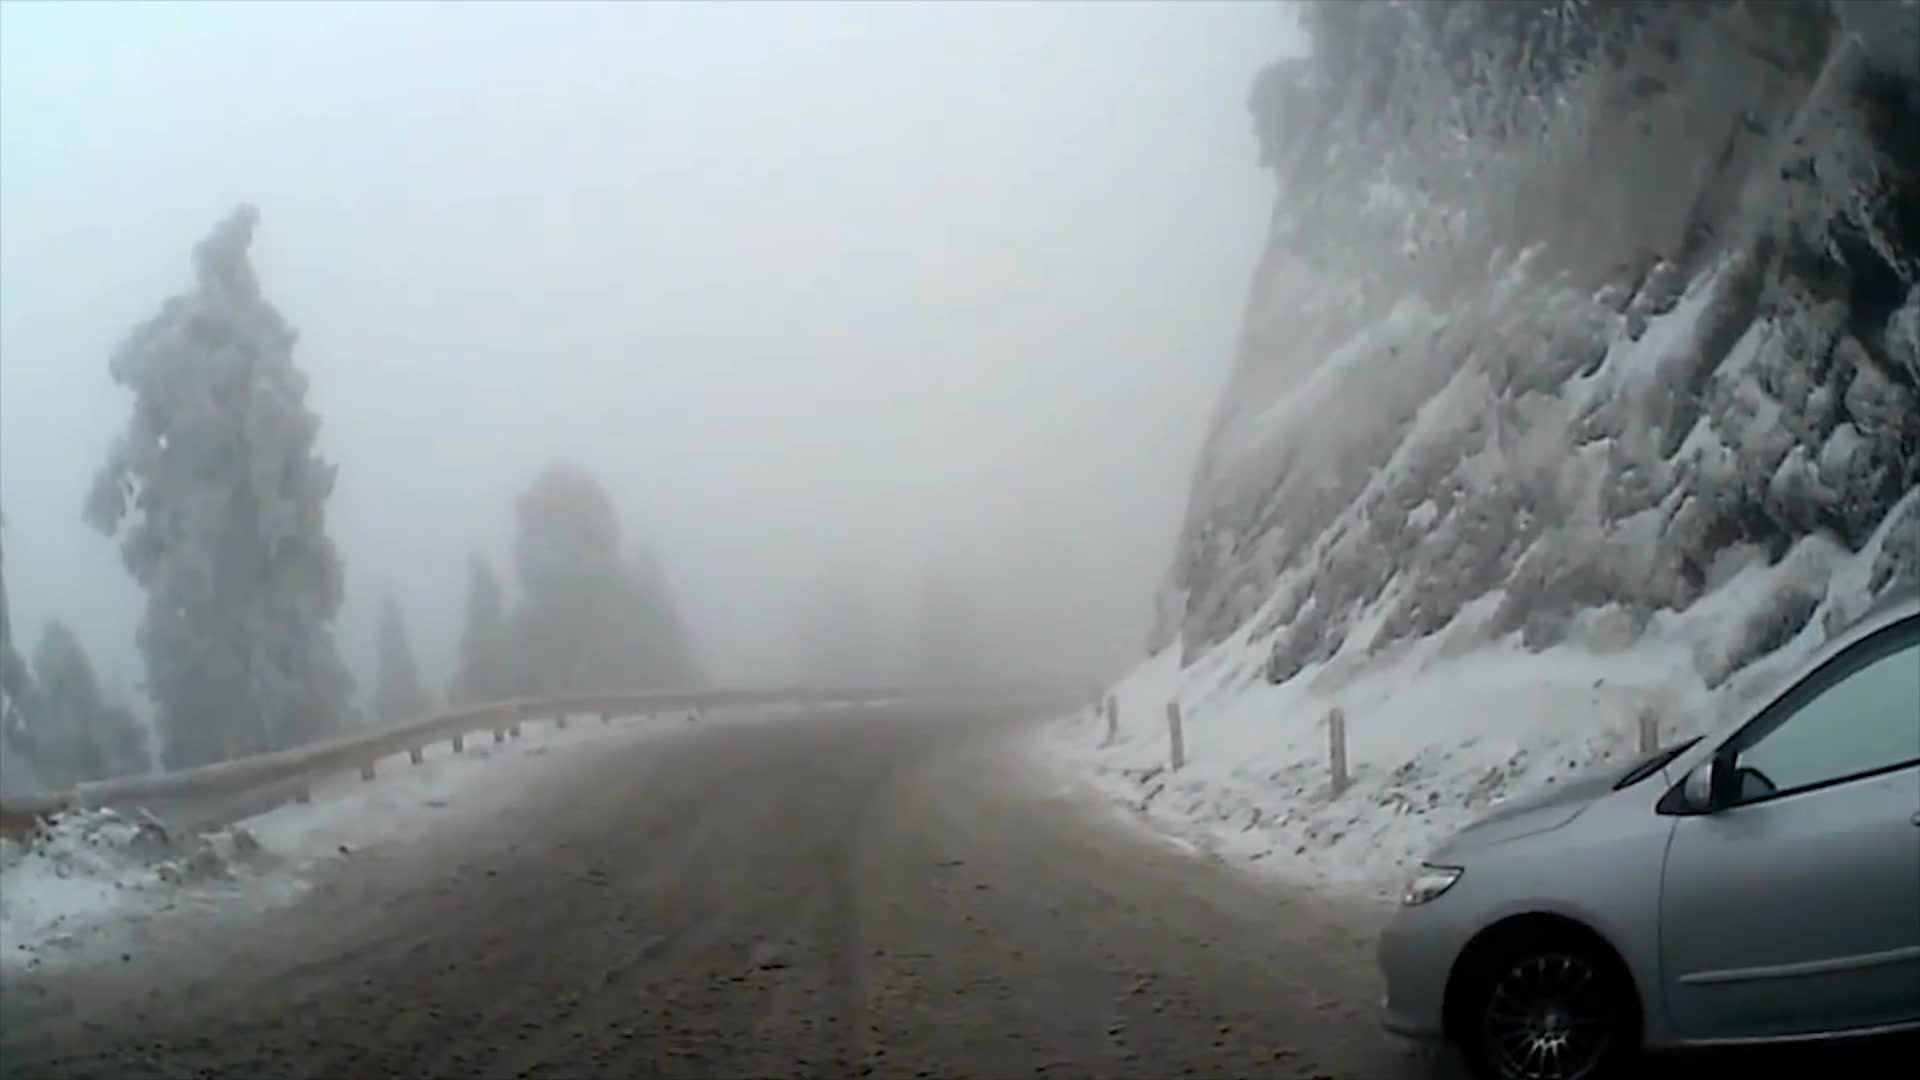vehicle: (1382, 589, 1920, 1080)
